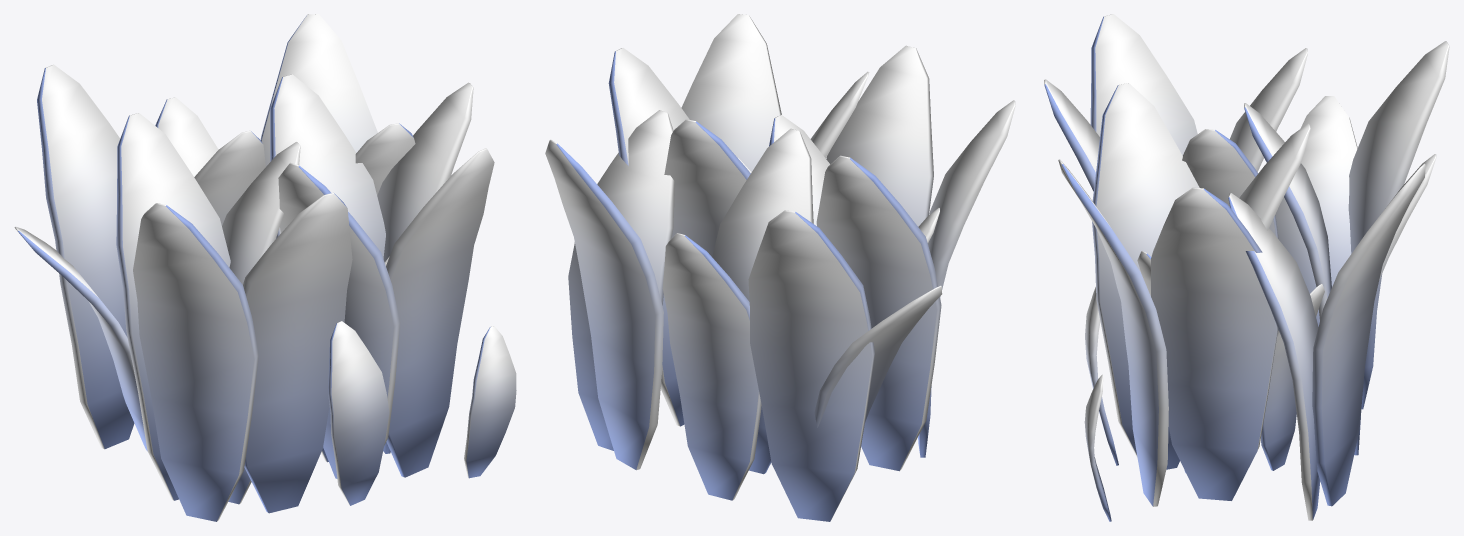
File: Grass010.fbx
The picture shows the model from 3 angles, left to right: view 1: azimuth 30°, elevation 25°; view 2: azimuth 150°, elevation 25°; view 3: azimuth 270°, elevation 25°; orthographic projection.
Visible parts, largest first — view 1: Grass010; view 2: Grass010; view 3: Grass010.
Part boxes in pixels (x1,y1,x2,y2): Grass010: [14, 14, 516, 521]; Grass010: [545, 14, 1015, 521]; Grass010: [1044, 14, 1449, 521].
Bounding box in the file's own units: 171 × 147 × 154.
